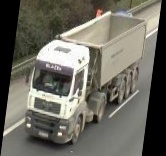truck: (22, 2, 147, 154)
